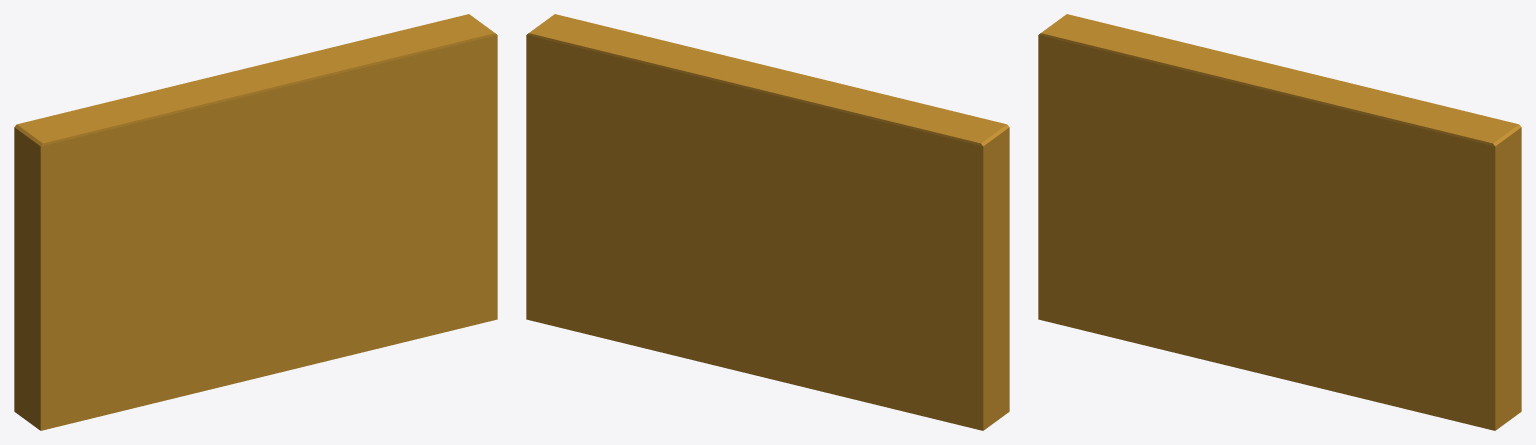
The model's file is LowWall.fbx.
3 renders of one model, left to right at view 1: azimuth 30°, elevation 25°; view 2: azimuth 150°, elevation 25°; view 3: azimuth 330°, elevation 25°, orthographic.
Parts seen in each view (by area): view 1: Low wall; view 2: Low wall; view 3: Low wall.
Boxes of the visible parts, x1,y1,x2,y2 form: Low wall: (14,14,497,430); Low wall: (526,14,1009,430); Low wall: (1038,14,1521,430).
Bounding box in the file's own units: 200 × 120 × 20.
